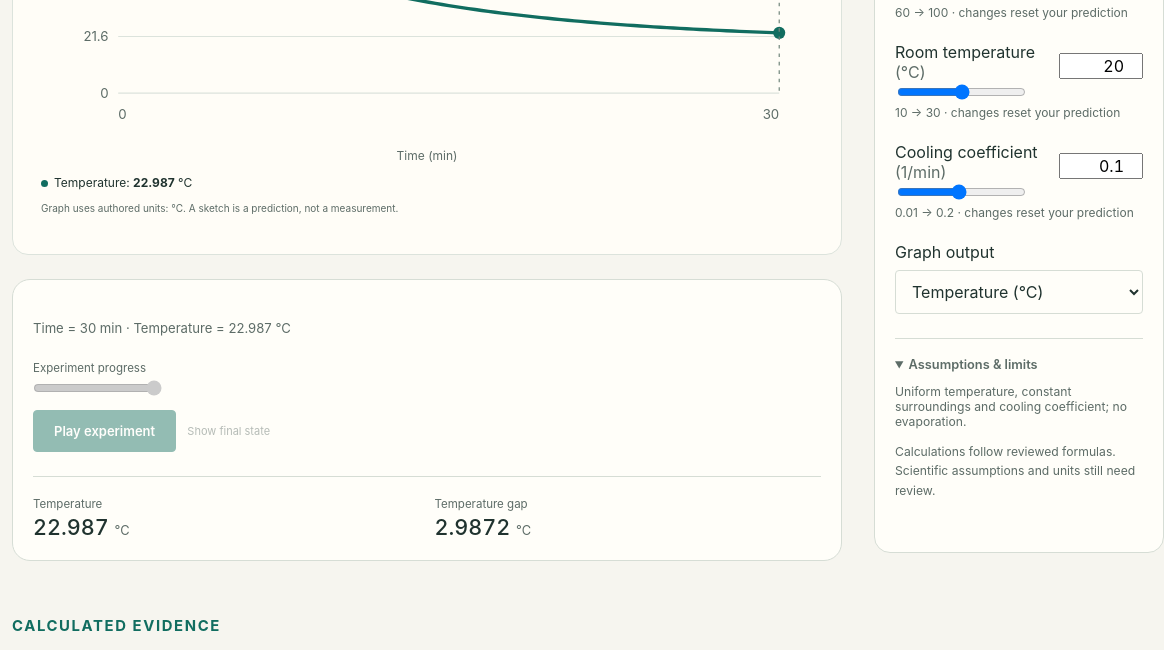
Test case: switching a canvas output clears old feedback and starts a new prediction
(page scrolled)
Select "Temperature gap (°C)" in the dropdown labelled "Graph output" at (1019, 292), box [895,270,1143,314]
(page scrolled)
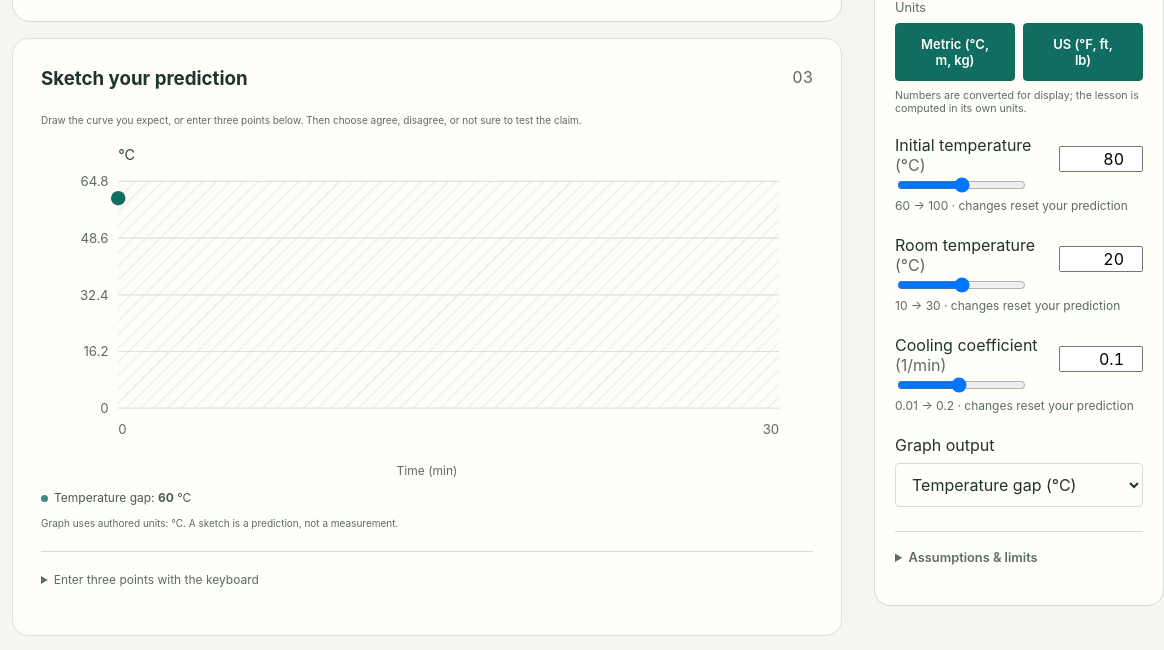
Check: the heading "Sketch your prediction" is shown, box [41,66,248,90]
